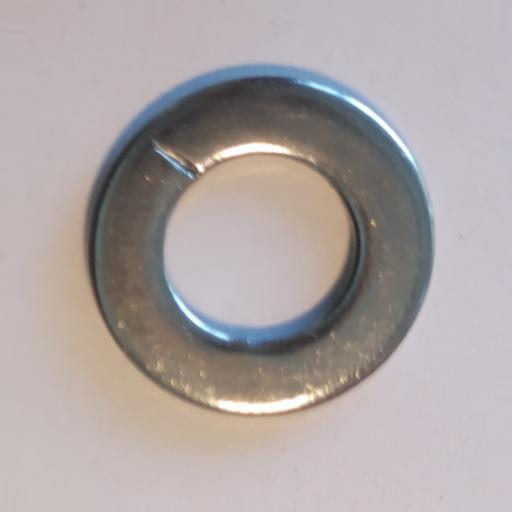scratch: (151, 138, 200, 178)
